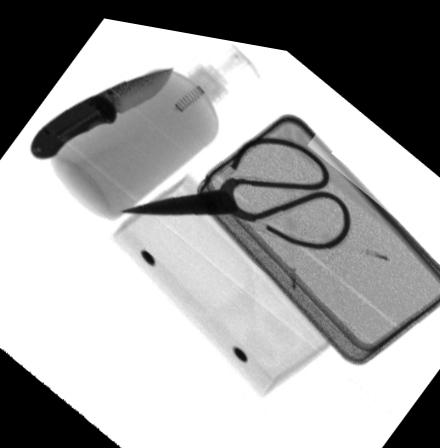Knife: (30, 60, 174, 156)
Scissors: (122, 124, 352, 240)
